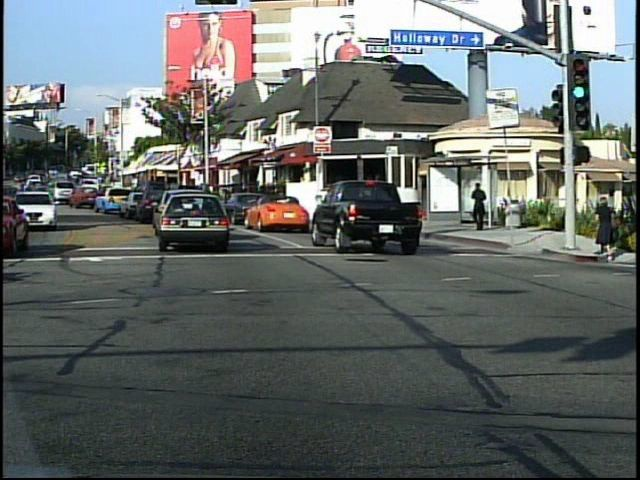person: (594, 193, 619, 261), (467, 181, 489, 236)
